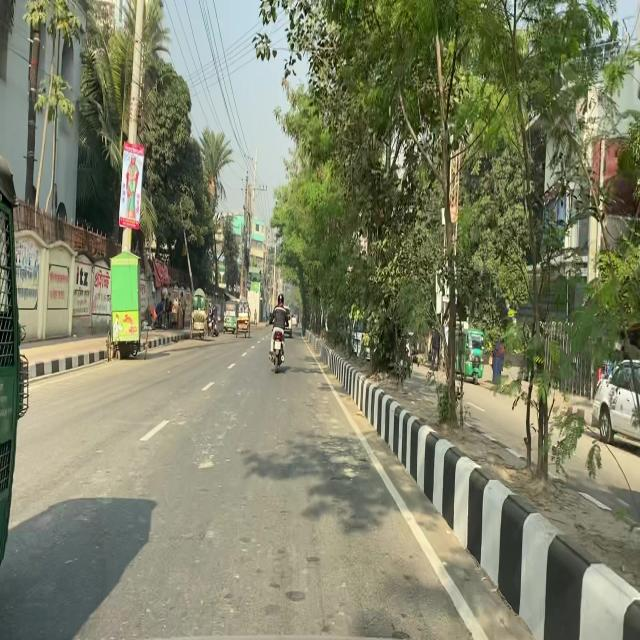motorbike: (267, 311, 292, 376), (200, 300, 220, 340)
